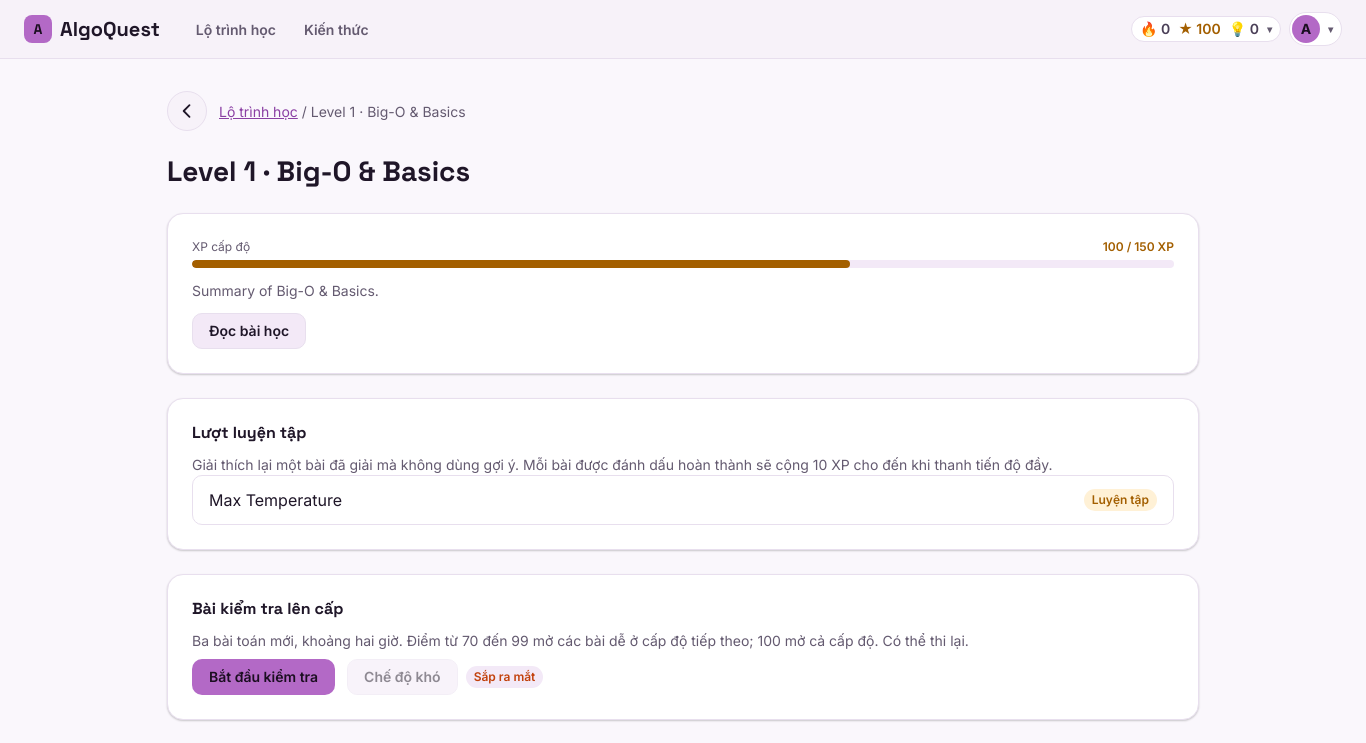
Test case: level-up test › links to the blocking test using server metadata (vi)
The width and height of the screenshot is (1366, 743).
Click the button "Bắt đầu kiểm tra".
click(264, 677)  # box [192,659,335,695]
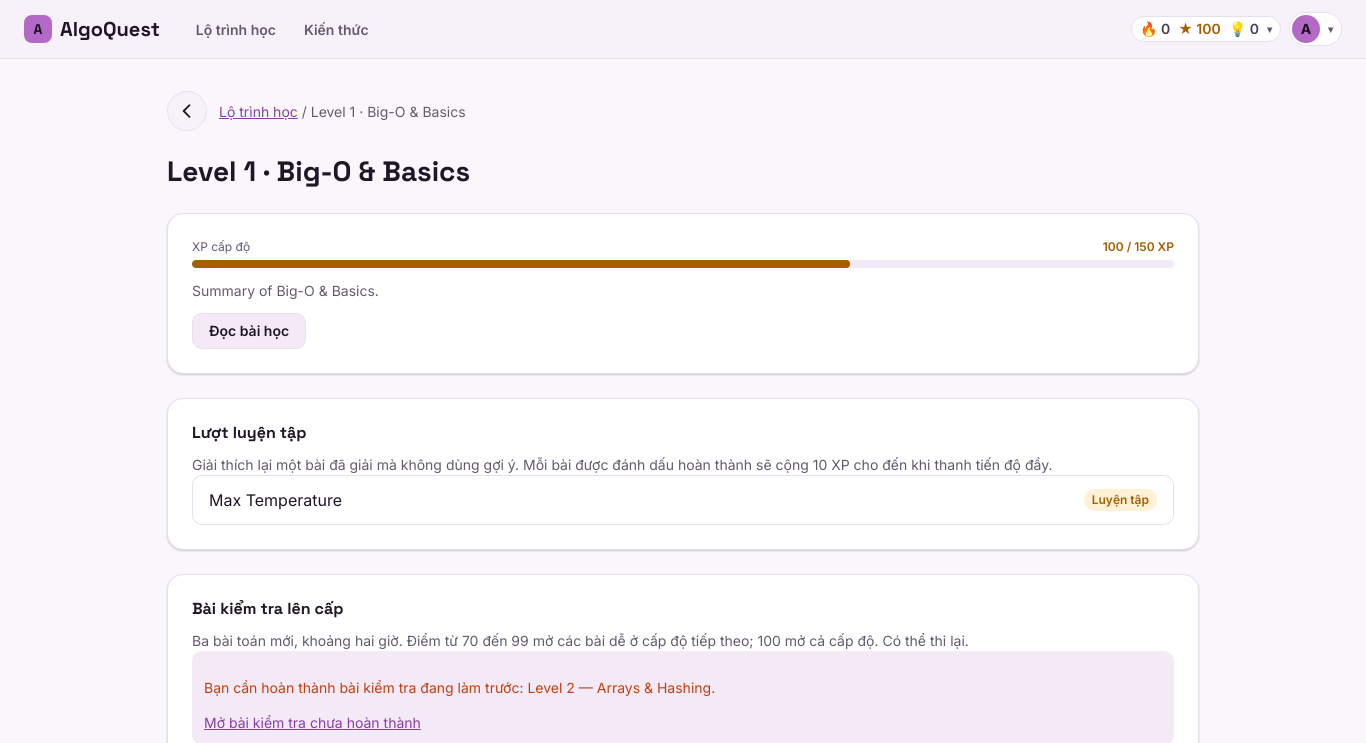
Result: the message shows "Bạn cần hoàn thành bài kiểm tra đang làm trước:" at [204,679,524,696]
Result: the message shows "Arrays & Hashing" at [575,679,711,696]
